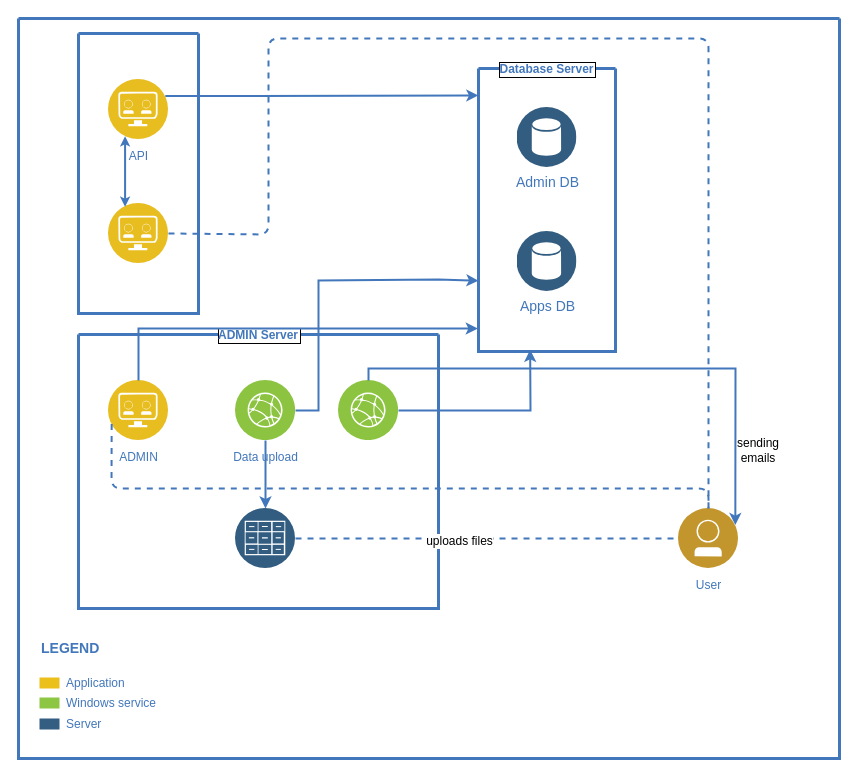
The diagram is 858 pixels wide and 777 high, and some of its shapes have lost their labels. Here are the shapes that lost their labels. From the top down, the box of each, then its label:
(76, 32, 200, 314): APPS Server
(108, 203, 168, 263): Front-end Portal
(338, 380, 398, 440): Send email
(235, 508, 295, 568): Pdf/CSV Files
